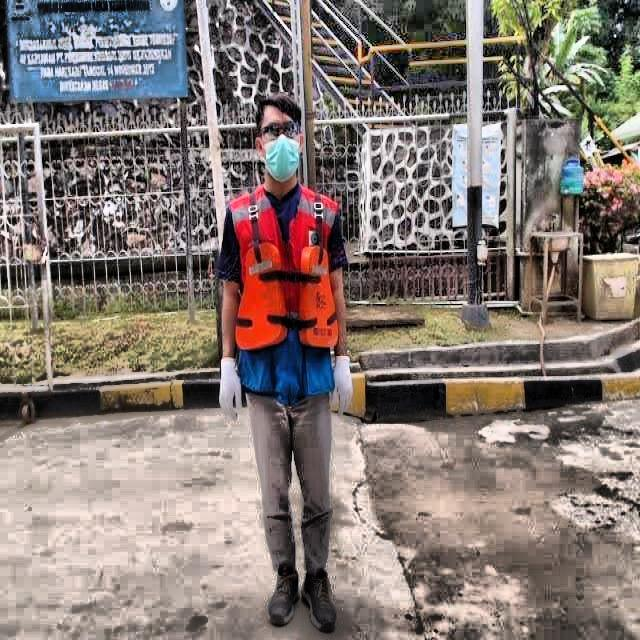safety_jacket: (226, 185, 336, 399)
